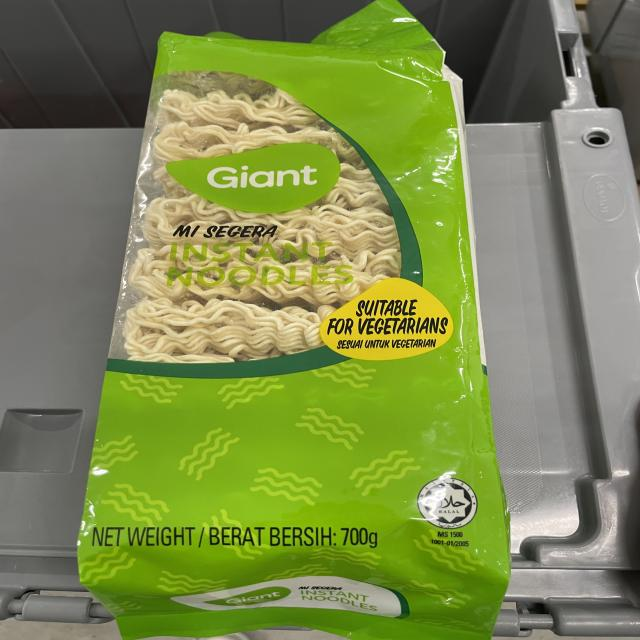object_name: (146, 37, 480, 618)
